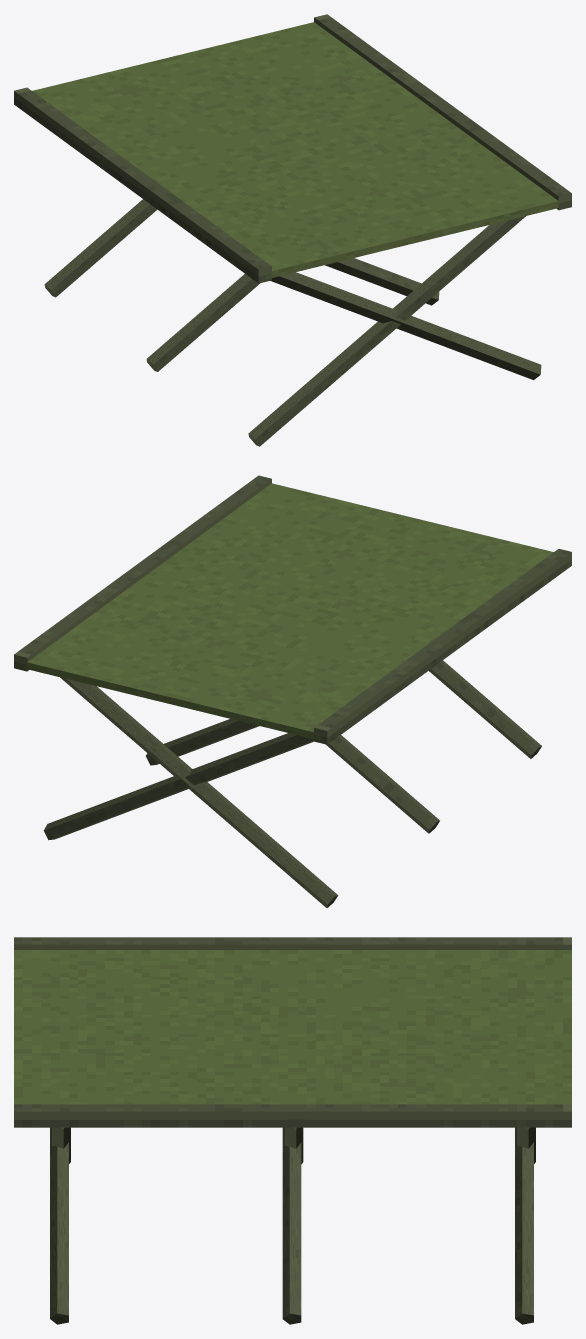
Rendered from tr_cot.glb.
The picture shows the model from 3 angles, top to bottom: view 1: azimuth 30°, elevation 25°; view 2: azimuth 150°, elevation 25°; view 3: azimuth 270°, elevation 25°; orthographic projection. The views are drawn at different scales.
Parts seen in each view (by area): view 1: block_canvas, block_leg (×5), block_side rail (×2); view 2: block_canvas, block_leg (×5), block_side rail (×2); view 3: block_canvas, block_side rail (×2), block_leg (×3).
Part boxes in pixels (x1,y1,x2,y2): block_canvas: [32, 22, 564, 279]; block_leg (×5): [44, 199, 541, 446]; block_side rail (×2): [14, 14, 571, 283]; block_canvas: [21, 483, 553, 740]; block_leg (×5): [43, 660, 541, 907]; block_side rail (×2): [14, 475, 571, 744]; block_canvas: [14, 950, 571, 1104]; block_side rail (×2): [14, 937, 571, 1127]; block_leg (×3): [50, 1127, 533, 1324].
Size of the model in its own units: 0.71 by 0.4247 by 0.96.
Materials: 2 (2 with a texture image).
